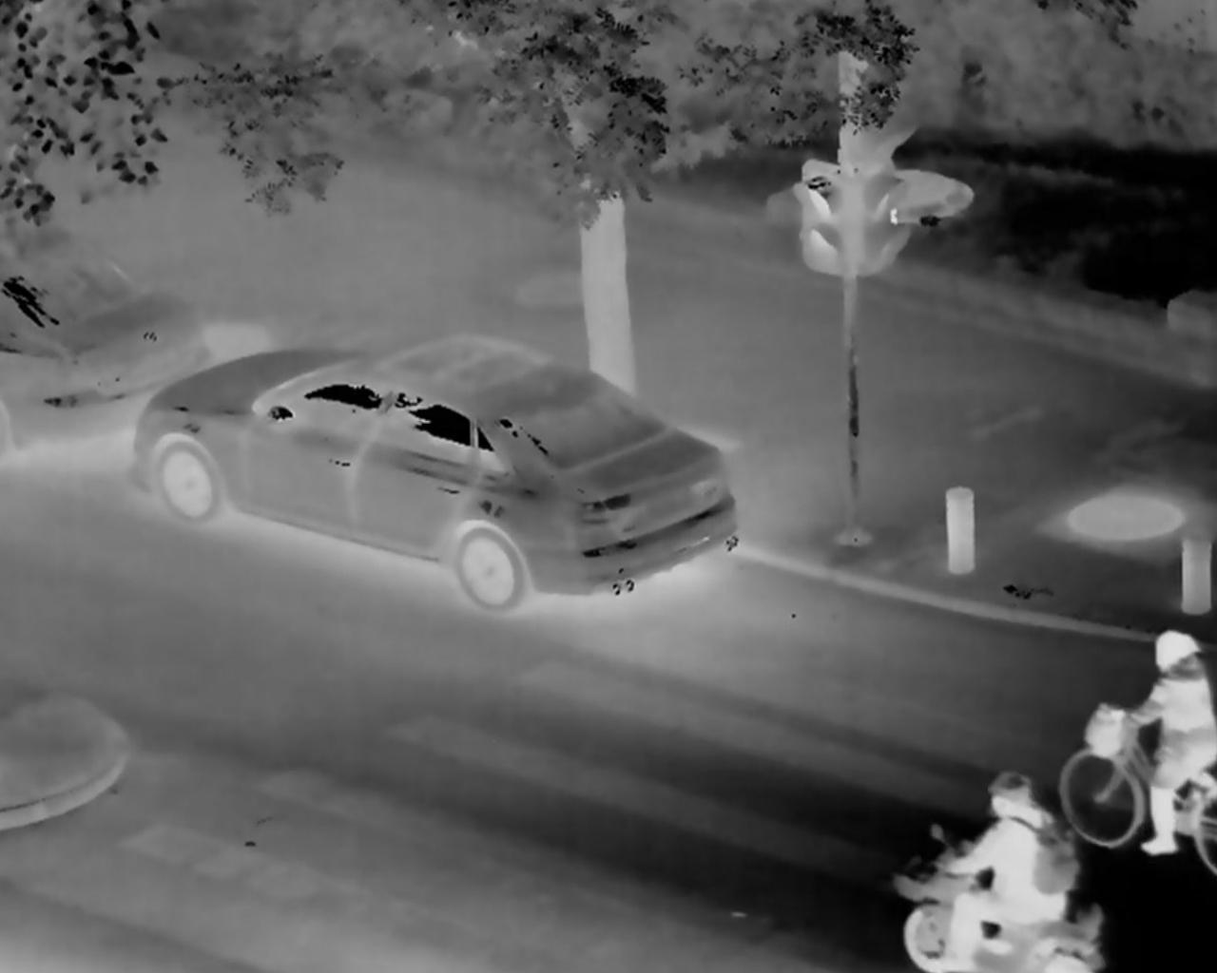person: (933, 770, 1077, 973), (1107, 614, 1217, 853)
